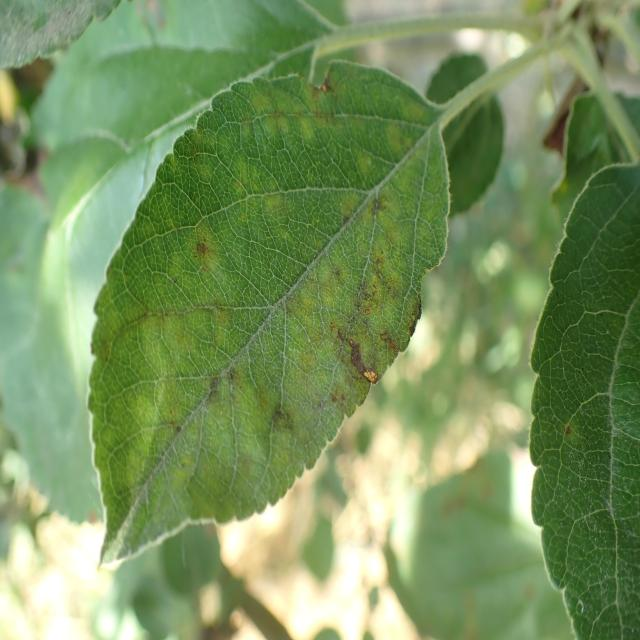scab: (86, 72, 448, 519)
